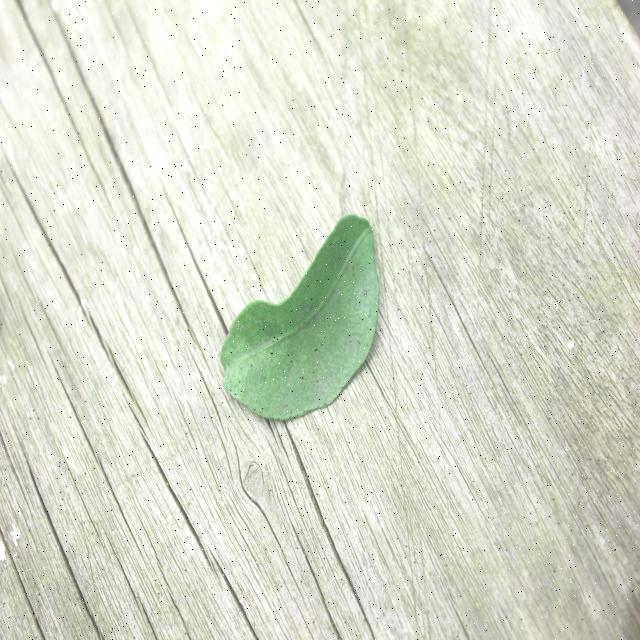blackspot: (224, 241, 374, 430)
